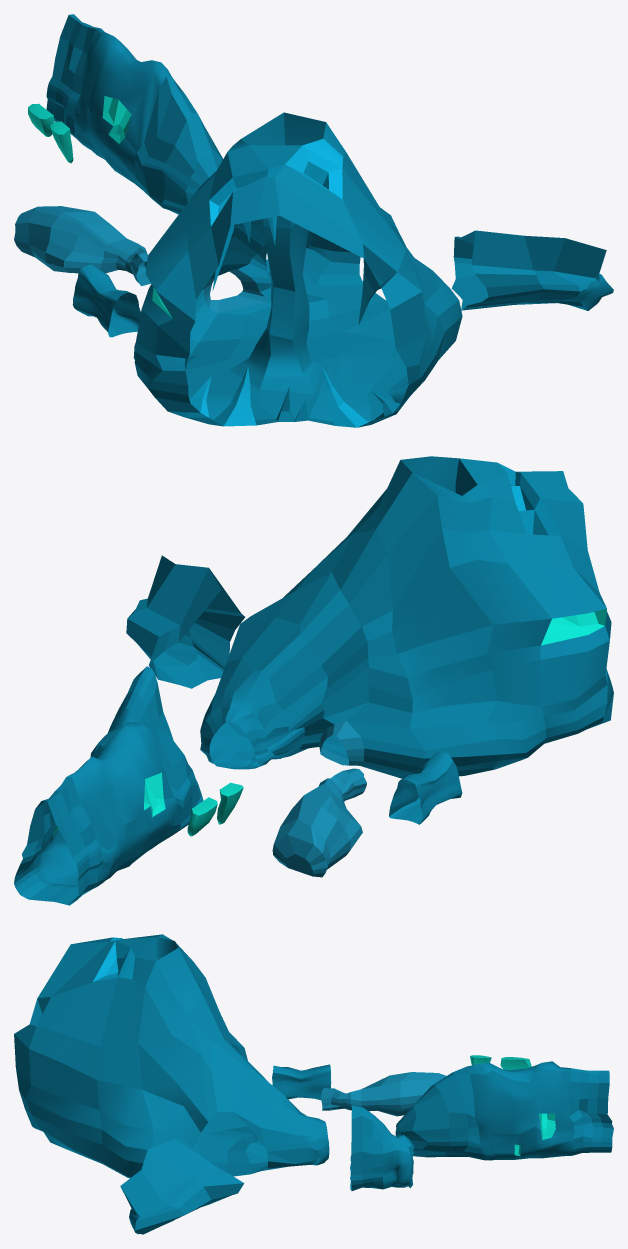
File: Cave_model_Feb_12 (1).fbx
The picture shows the model from 3 angles, top to bottom: view 1: azimuth 30°, elevation 25°; view 2: azimuth 150°, elevation 25°; view 3: azimuth 270°, elevation 25°; orthographic projection. The views are drawn at different scales.
Visible parts, largest first — view 1: Cave_chamber, Cave_wall_1, Cave_cavity_2, Cave_cavity, Connecting_wall_entrance_thing, Cave_wall_2, Climbing_platform_ishh, Climbing_platform_ishh_2; view 2: Cave_chamber, Cave_wall_1, Cave_cavity_2, Cave_cavity, Connecting_wall_entrance_thing, Cave_wall_2, Small_big_entrance, Cave_floor, Climbing_platform_ishh_2, Climbing_platform_ishh; view 3: Cave_chamber, Cave_wall_2, Cave_cavity_2, Small_big_entrance, Cave_cavity, Connecting_wall_entrance_thing, Cave_wall_1.
Part boxes in pixels (bbox=[...]): Cave_chamber: bbox=[133, 112, 462, 427]; Cave_wall_1: bbox=[46, 14, 214, 214]; Cave_cavity_2: bbox=[451, 230, 613, 310]; Cave_cavity: bbox=[14, 206, 150, 286]; Connecting_wall_entrance_thing: bbox=[72, 264, 140, 337]; Cave_wall_2: bbox=[76, 16, 222, 172]; Climbing_platform_ishh: bbox=[50, 121, 73, 163]; Climbing_platform_ishh_2: bbox=[28, 103, 54, 136]; Cave_chamber: bbox=[200, 456, 613, 778]; Cave_wall_1: bbox=[42, 722, 203, 904]; Cave_cavity_2: bbox=[126, 555, 244, 688]; Cave_cavity: bbox=[272, 768, 366, 877]; Connecting_wall_entrance_thing: bbox=[389, 751, 462, 824]; Cave_wall_2: bbox=[14, 764, 83, 894]; Small_big_entrance: bbox=[90, 666, 173, 758]; Cave_floor: bbox=[20, 868, 91, 905]; Climbing_platform_ishh_2: bbox=[187, 797, 217, 836]; Climbing_platform_ishh: bbox=[217, 782, 243, 824]; Cave_chamber: bbox=[14, 934, 329, 1178]; Cave_wall_2: bbox=[398, 1069, 613, 1160]; Cave_cavity_2: bbox=[120, 1139, 244, 1234]; Small_big_entrance: bbox=[350, 1105, 414, 1190]; Cave_cavity: bbox=[321, 1072, 446, 1116]; Connecting_wall_entrance_thing: bbox=[272, 1064, 331, 1100]; Cave_wall_1: bbox=[395, 1061, 609, 1136].
Bounding box in the file's own units: 567 × 299 × 846.
